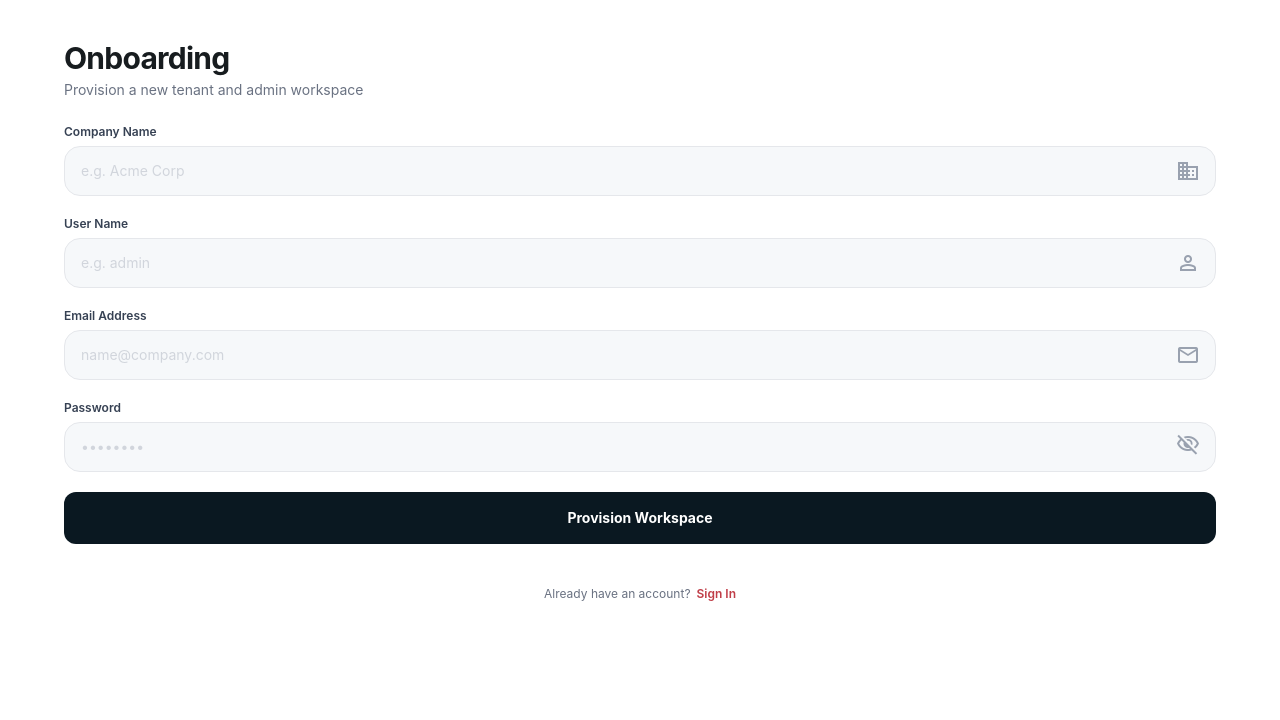
Scenario: SignupForm Email Verification & Flow Tests › successful signup displays "Check your email" view and does NOT set auth session
Type "Acme Corp" into the field labelled "Company Name" at [640, 171], box [64,146,1216,196]
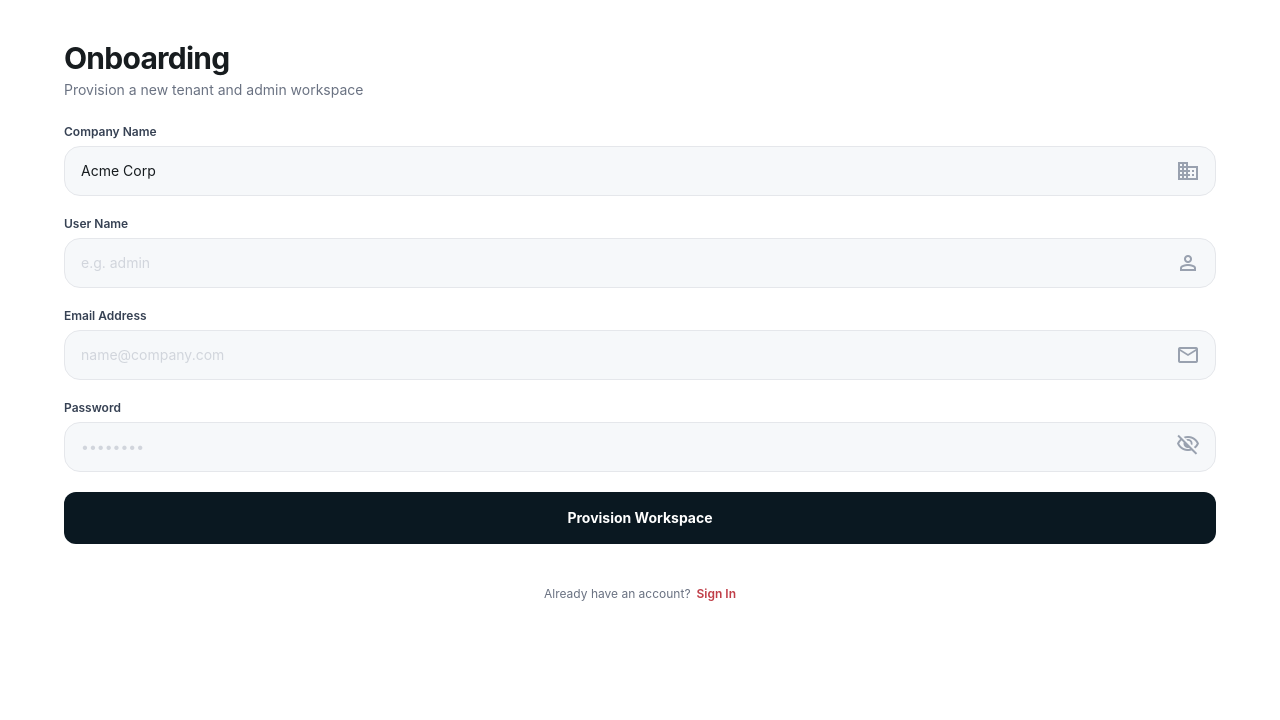
Type "admin" into the field labelled "User Name" at [640, 263], box [64,238,1216,288]
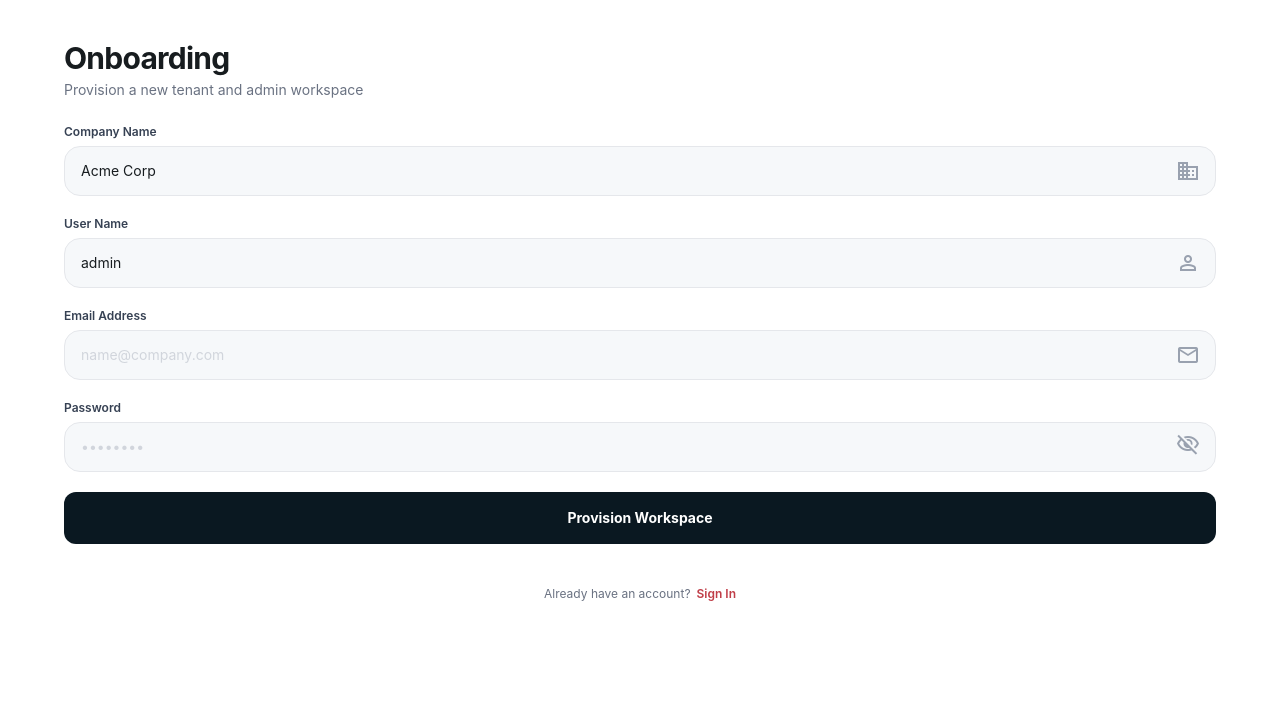
Type "user@example.com" into the field labelled "Email Address" at [640, 355], box [64,330,1216,380]
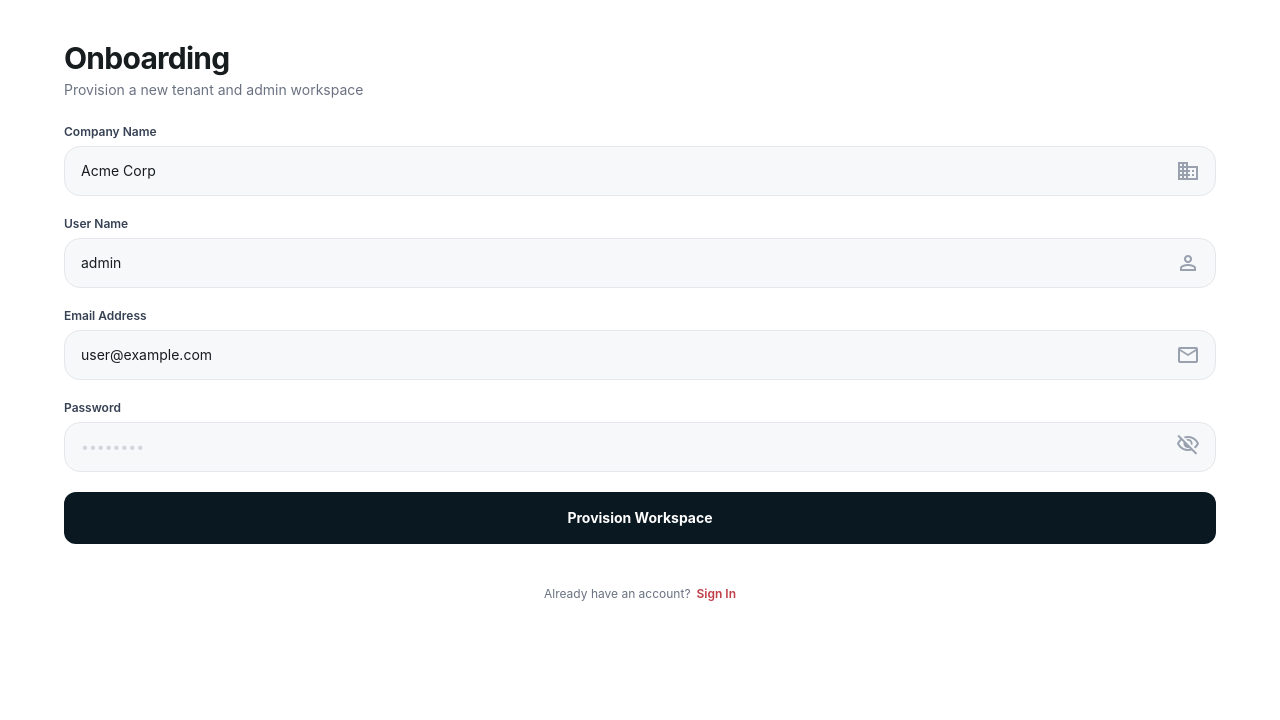
Type "Password123!" into the password field labelled "Password" at [640, 447], box [64,422,1216,472]
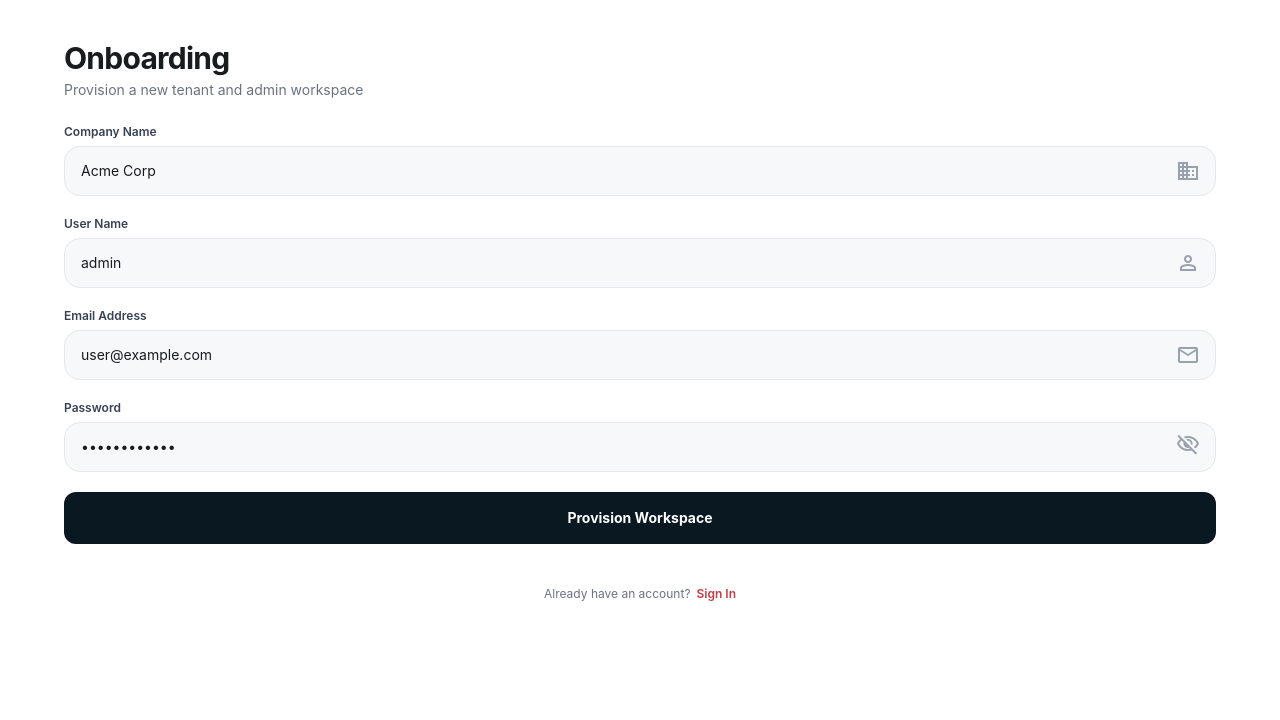
Click the button "Provision Workspace" at [640, 518], box [64,492,1216,544]
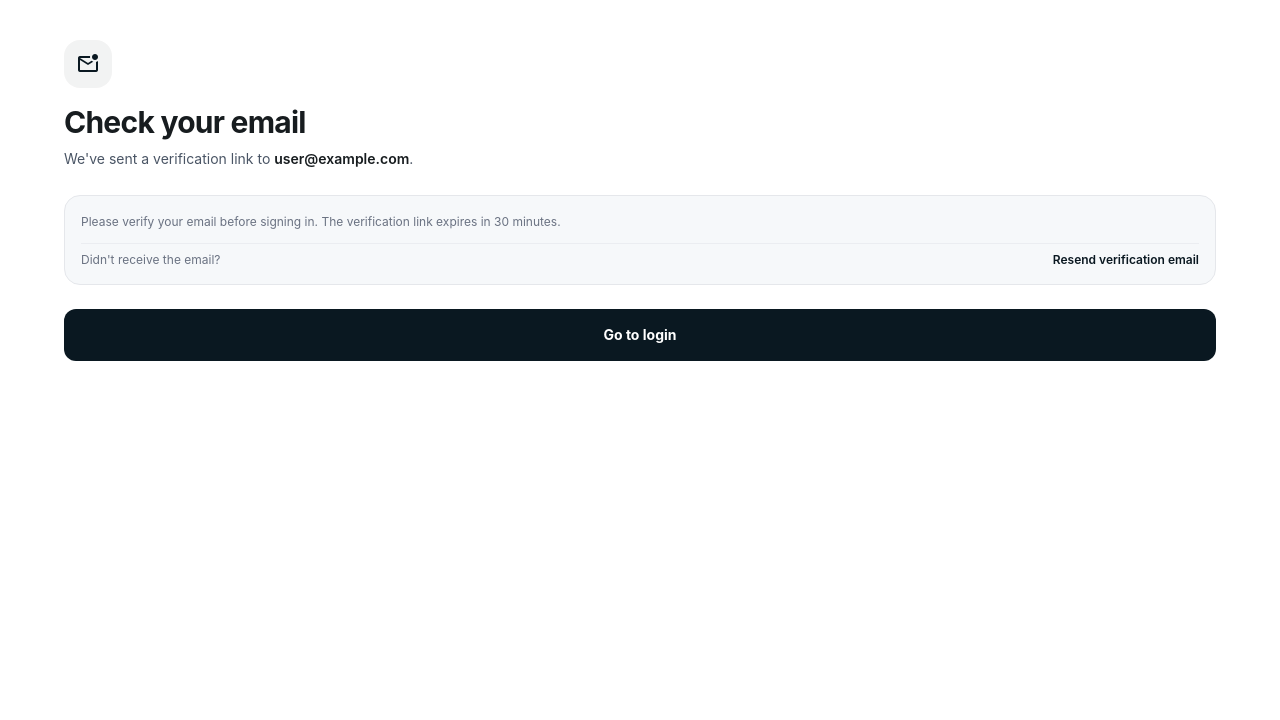
Expected: the heading "Check your email" is shown, [64,104,306,140]
Expected: the text "user@example.com" is shown, [274,150,409,167]
Expected: the text "Please verify your email before signing in" is shown, [81,214,561,229]
